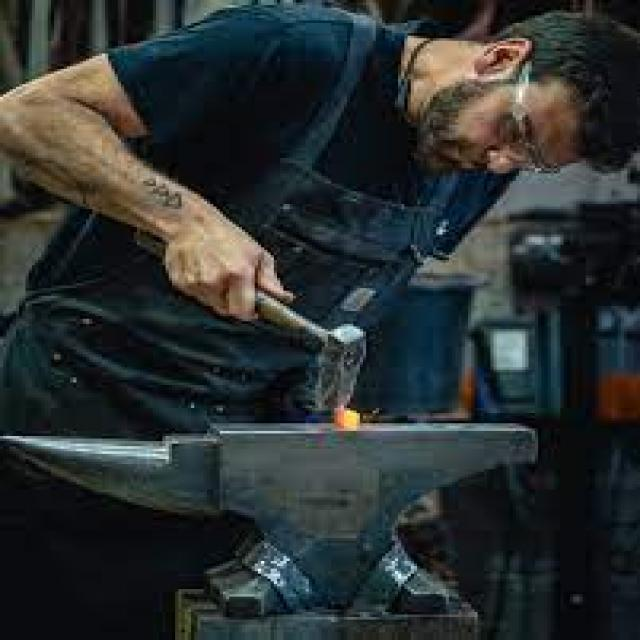hammer: (214, 272, 378, 419)
